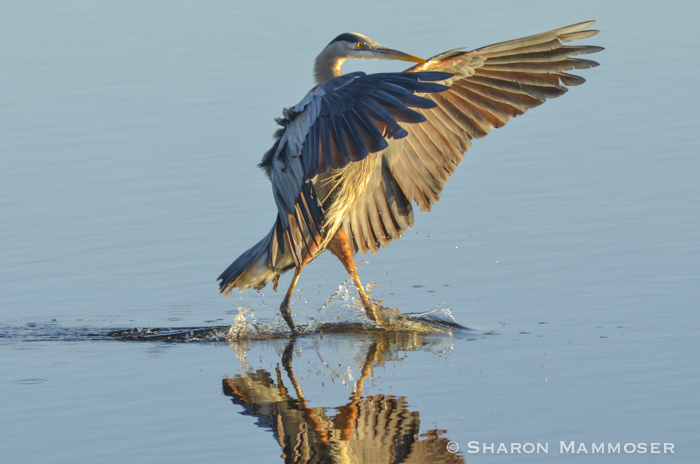heron: (222, 13, 612, 341)
